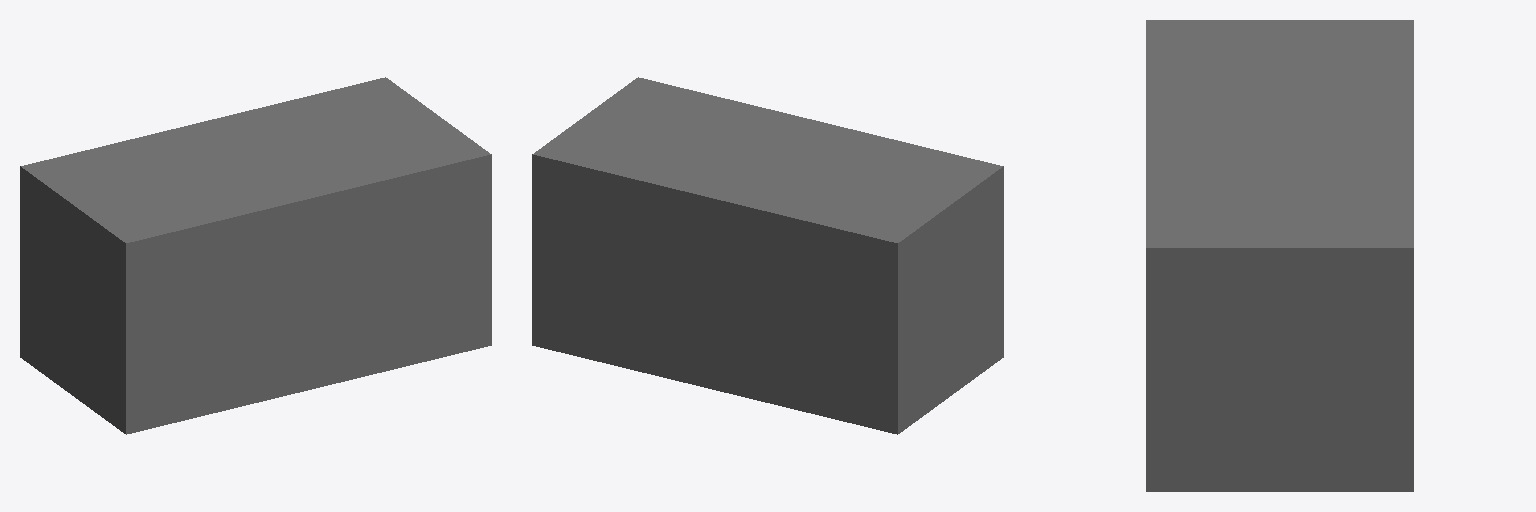
robot.urdf — block_pink:
<?xml version="1.0"?>
<!-- color: gray -->
<robot name="block_pink">
  <link name="base_link">
    <contact>
      <lateral_friction value="0.7"/>
      <spinning_friction value=".001"/>
    </contact>
    <inertial>
      <origin rpy="0 0 0" xyz="0 0 0"/>
      <mass value="1"/>
      <inertia ixx="1" ixy="0" ixz="0" iyy="1" iyz="0" izz="1"/>
    </inertial>
    <visual>
      <origin rpy="0 0 0" xyz="0.0 0.0 0.0"/>
      <geometry>
        <box size="0.1 0.05 0.05"/>
      </geometry>
      <material name="gray">
        <color rgba="0.5 0.5 0.5 1.0"/>
      </material>
    </visual>
    <collision>
      <origin rpy="0 0 0" xyz="0.0 0.0 0.0"/>
      <geometry>
        <box size="0.1 0.05 0.05"/>
      </geometry>
    </collision>
  </link>
</robot>

--- Render facts (derived) ---
Views: 3 orthographic renders of the robot side by side, from view 1: azimuth 30°, elevation 25°; view 2: azimuth 150°, elevation 25°; view 3: azimuth 270°, elevation 25°.
Model block_pink with 1 links and 0 joints (none), rooted at base_link, posed all joints at 0.
Visible links, largest first — view 1: base_link; view 2: base_link; view 3: base_link.
Link boxes in pixels (box(x1,y1,x2,y2)): base_link: box(20, 77, 491, 434); base_link: box(532, 77, 1003, 434); base_link: box(1146, 20, 1413, 491).
Size in the robot's own frame: 0.1 by 0.05 by 0.05 metres.
Geometry: primitives only (box / cylinder / sphere), no mesh files.
